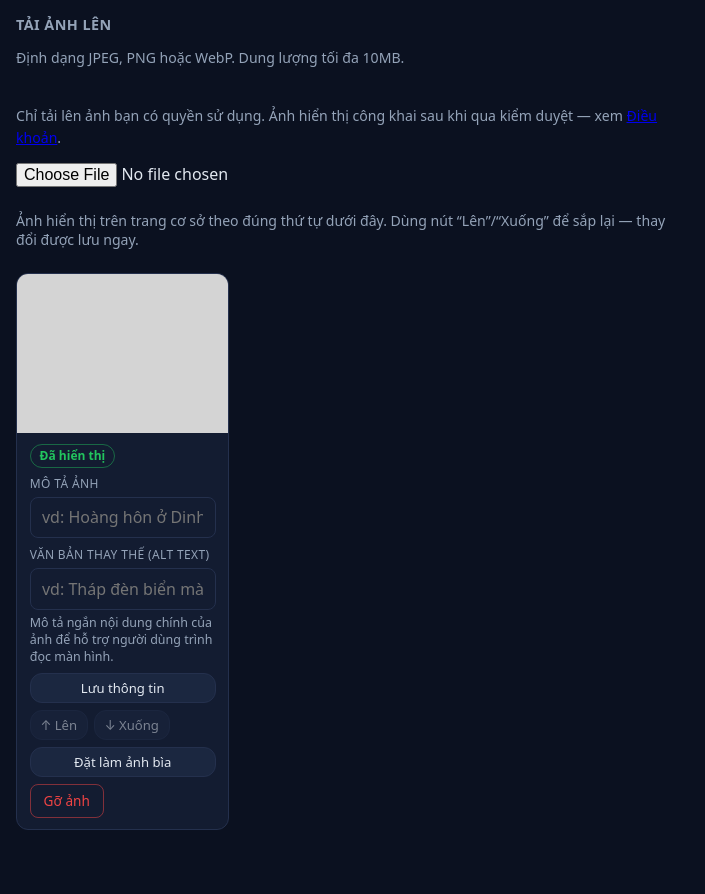
Test: PhotosView — ảnh bìa › API trả 403 → thông điệp về quyền
(page scrolled)
Click the button "Đặt làm ảnh bìa". click: (123, 762)
box: [30, 747, 216, 777]
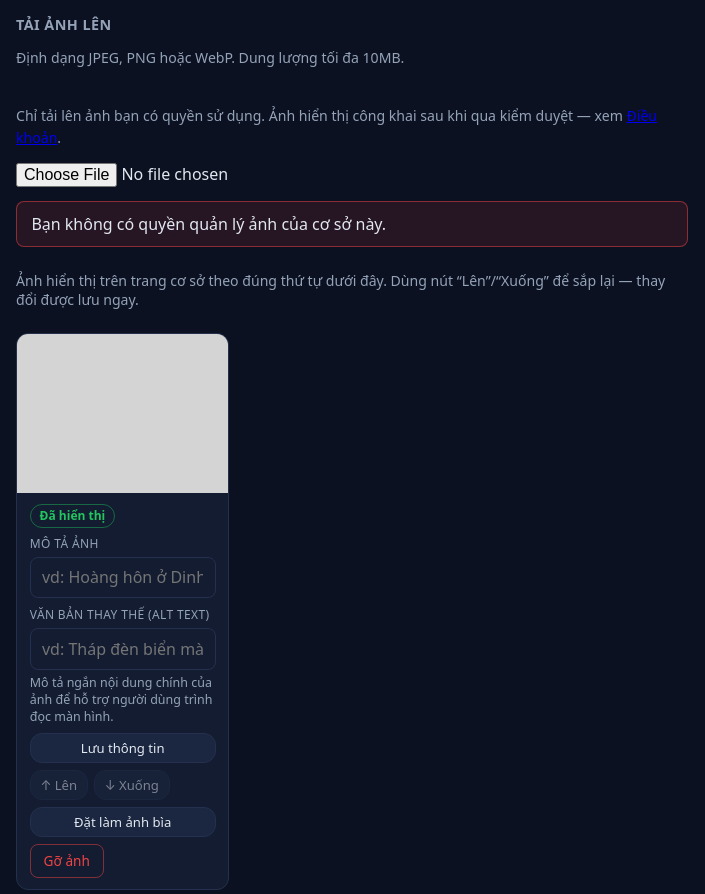
Check: the message reads "Bạn không có quyền quản lý ảnh của cơ sở này.", box [31, 213, 386, 235]
